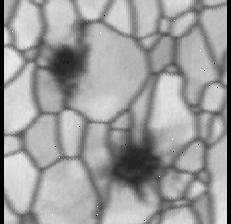good_void: (93, 131, 169, 214), (34, 36, 95, 104)
